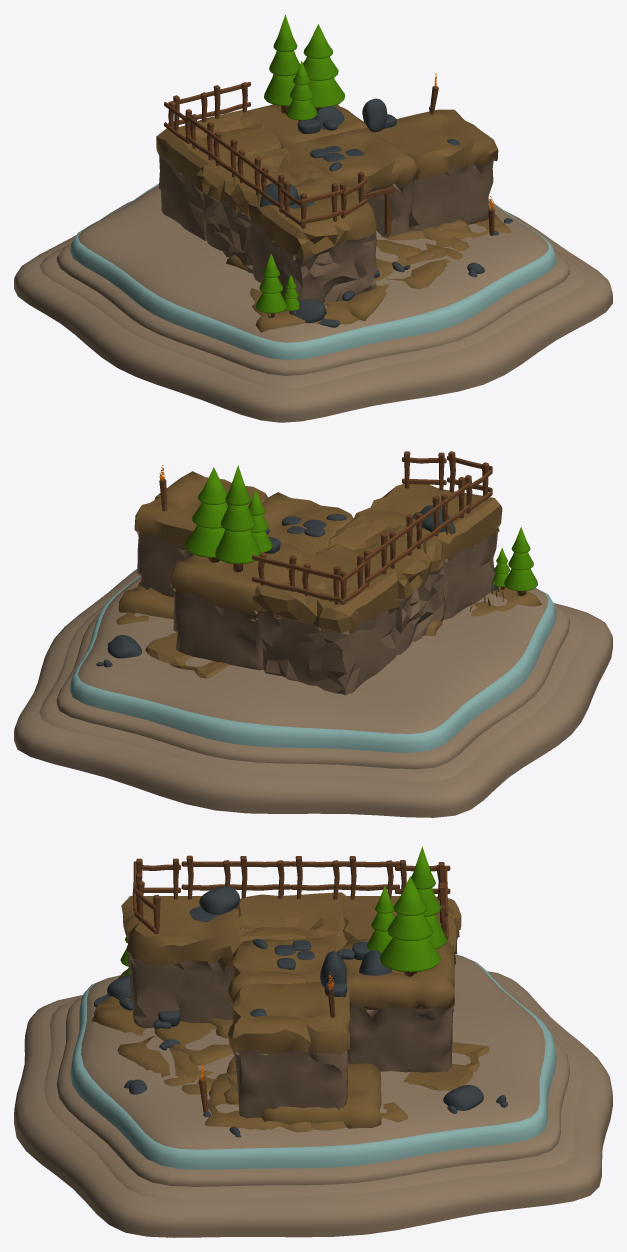
File: ISLA2.fbx
3 views of the same model, one above another, from view 1: azimuth 30°, elevation 25°; view 2: azimuth 150°, elevation 25°; view 3: azimuth 270°, elevation 25° (orthographic). The views are drawn at different scales.
Visible parts, largest first — view 1: Plane.011, Plane.002, Tile_Rocky_01.056, Plane.012, Tile_Rocky_01.059, Plane.009, Plane.010, Tile_Rocky_01.058, Tile_Rocky_01.054, Tile_Rocky_01.021, Tile_Rocky_01.061, Cylinder.001 (+15 smaller); view 2: Plane.011, Plane.002, Tile_Rocky_01.058, Plane.012, Plane.009, Plane.010, Tile_Rocky_01.057, Tile_Rocky_01.056, Tile_Rocky_01.054, Tile_Rocky_01.059, Tile_Rocky_01.021, Cylinder.003 (+17 smaller); view 3: Plane.011, Plane.002, Tile_Rocky_01.059, Plane.012, Tile_Rocky_01.056, Plane.009, Tile_Rocky_01.057, Plane.010, Tile_Rocky_01.061, Tile_Rocky_01.054, Tile_Rocky_01.021, Tile_Rocky_01.055 (+17 smaller).
Boxes of the visible parts, x1,y1,x2,y2 form: Plane.011: [14, 201, 612, 422]; Plane.002: [78, 185, 548, 342]; Tile_Rocky_01.056: [247, 176, 377, 302]; Plane.012: [70, 183, 556, 360]; Tile_Rocky_01.059: [364, 106, 498, 230]; Plane.009: [56, 243, 569, 375]; Plane.010: [39, 245, 586, 388]; Tile_Rocky_01.058: [156, 110, 281, 240]; Tile_Rocky_01.054: [197, 148, 332, 273]; Tile_Rocky_01.021: [281, 129, 418, 237]; Tile_Rocky_01.061: [250, 237, 469, 332]; Cylinder.001: [303, 24, 344, 110]; Plane.011: [14, 569, 612, 817]; Plane.002: [78, 576, 548, 733]; Tile_Rocky_01.058: [252, 554, 399, 695]; Plane.012: [69, 575, 556, 752]; Plane.009: [56, 604, 569, 769]; Plane.010: [39, 605, 586, 782]; Tile_Rocky_01.057: [170, 542, 304, 670]; Tile_Rocky_01.056: [354, 483, 502, 619]; Tile_Rocky_01.054: [316, 513, 444, 655]; Tile_Rocky_01.059: [134, 471, 267, 597]; Tile_Rocky_01.021: [261, 492, 353, 555]; Cylinder.003: [215, 465, 260, 572]; Plane.011: [14, 971, 612, 1237]; Plane.002: [81, 954, 545, 1149]; Tile_Rocky_01.059: [227, 981, 350, 1118]; Plane.012: [70, 956, 556, 1169]; Tile_Rocky_01.056: [121, 896, 244, 1028]; Plane.009: [57, 997, 569, 1186]; Tile_Rocky_01.057: [342, 939, 454, 1072]; Plane.010: [44, 977, 583, 1199]; Tile_Rocky_01.061: [91, 969, 233, 1094]; Tile_Rocky_01.054: [235, 889, 345, 942]; Tile_Rocky_01.021: [227, 936, 347, 1005]; Tile_Rocky_01.055: [261, 1063, 381, 1128].
Bounding box in the file's own units: 1131 × 652 × 1146.
